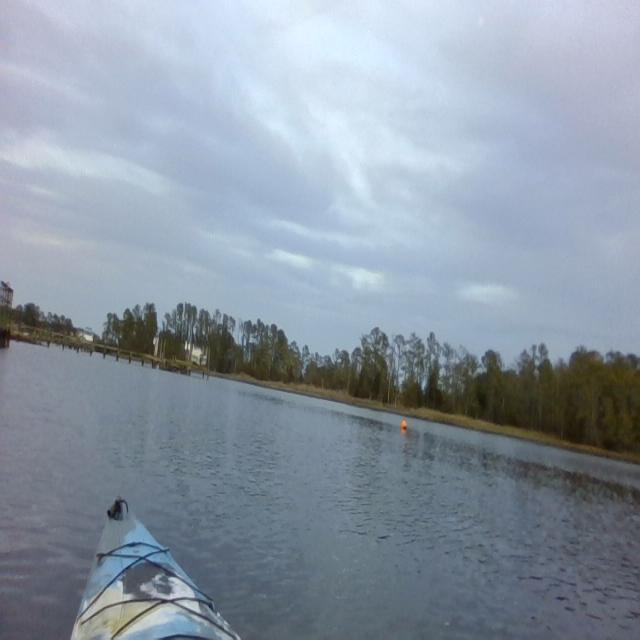Buoy: (400, 417, 410, 434)
